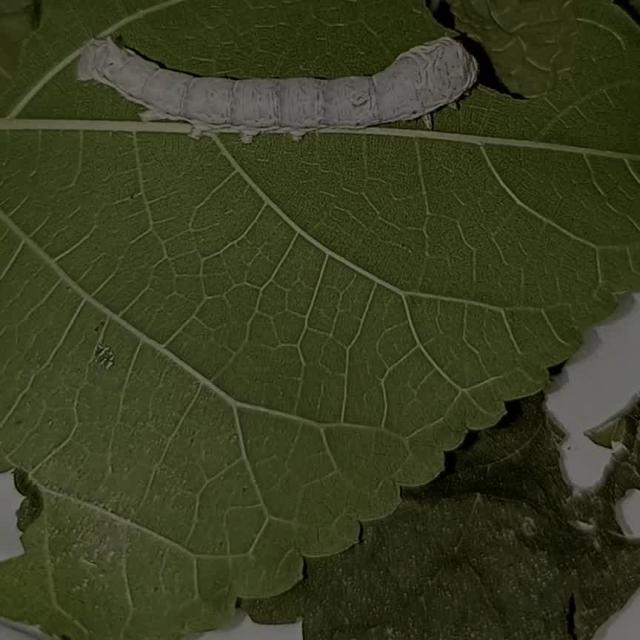Healthy: (63, 27, 502, 151), (64, 17, 67, 30)
